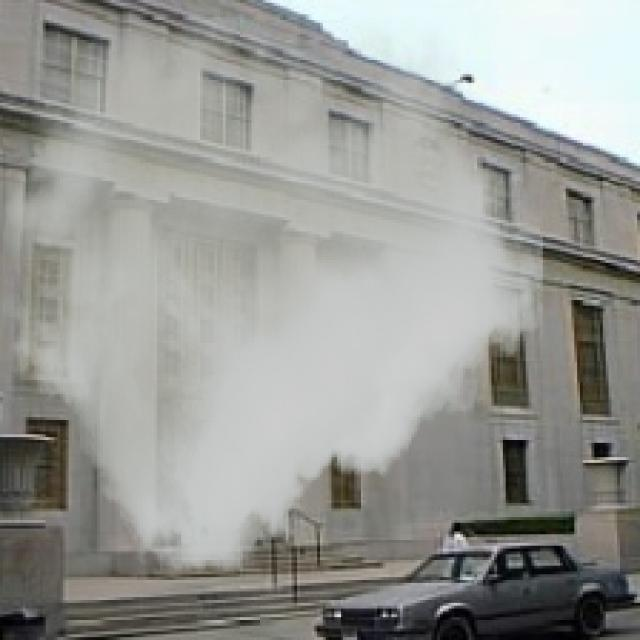Smoke: (3, 17, 543, 572)
